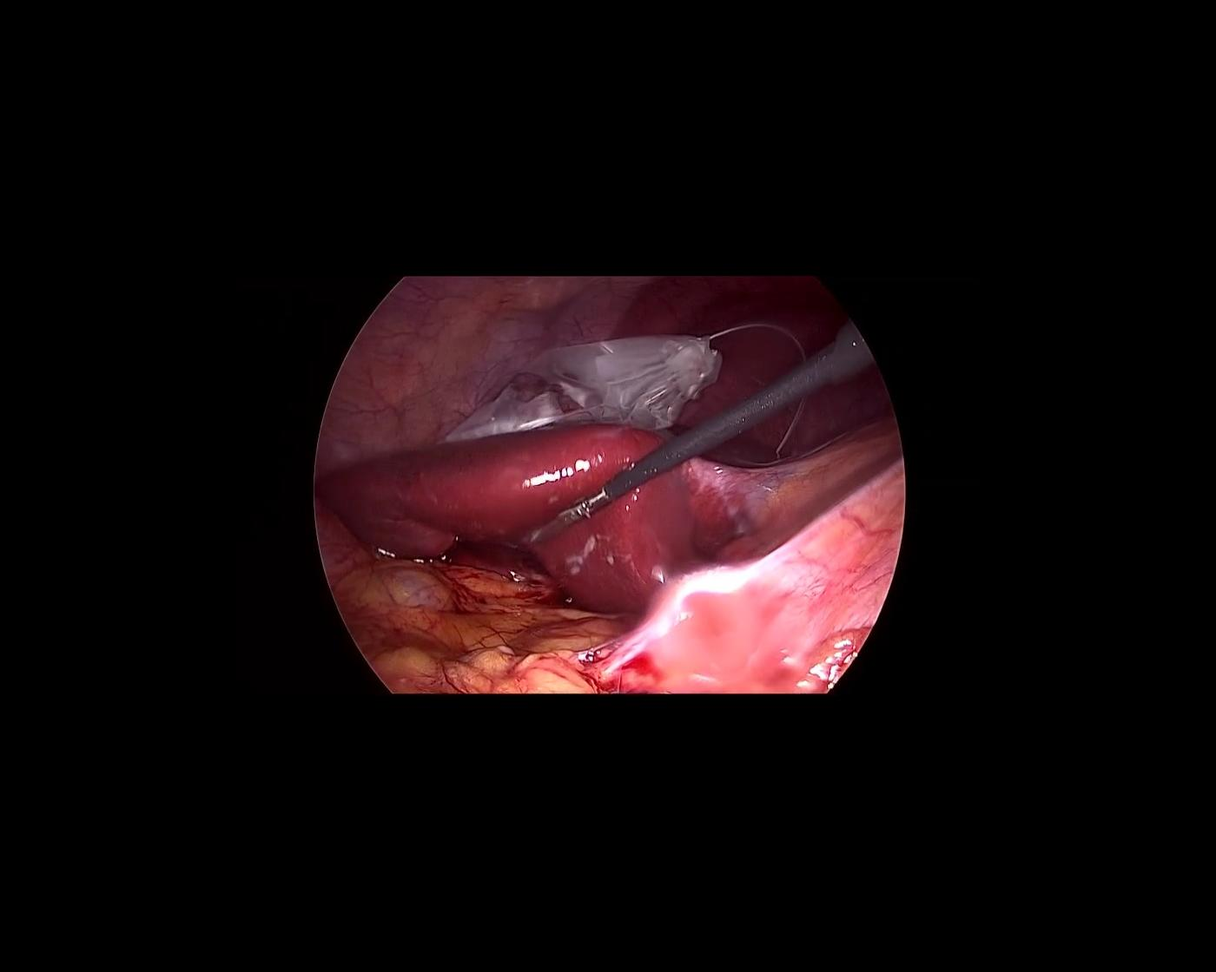Bag: (431, 332, 730, 443)
Forceps: (505, 321, 876, 553)
Liver: (310, 411, 722, 617)
